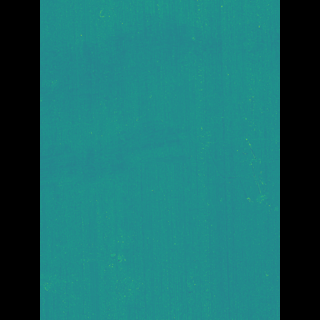Loch: (70, 0, 194, 204), (192, 120, 250, 221)
